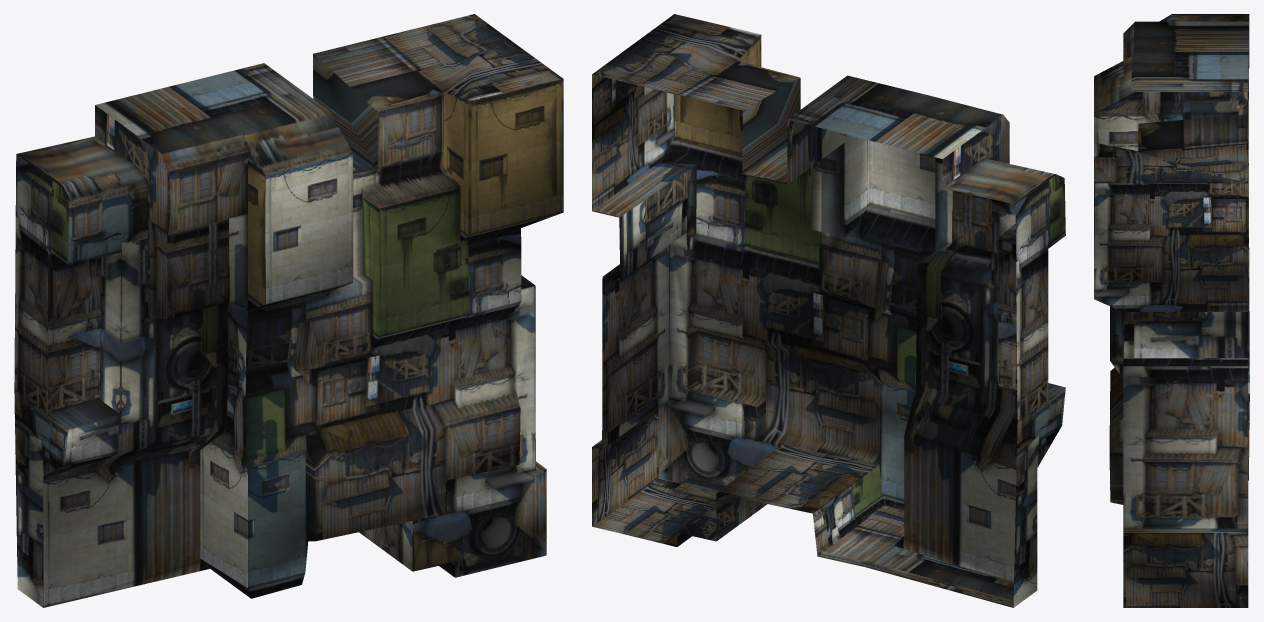
Rendered from BuildingBlock_1.FBX.
3 renders of one model, left to right at view 1: azimuth 30°, elevation 25°; view 2: azimuth 150°, elevation 25°; view 3: azimuth 270°, elevation 25°, orthographic. The views are drawn at different scales.
Visible parts, largest first — view 1: SM_Shanty_01; view 2: SM_Shanty_01; view 3: SM_Shanty_01.
Boxes of the visible parts, bbox=[...] form: SM_Shanty_01: bbox=[14, 14, 563, 607]; SM_Shanty_01: bbox=[592, 14, 1065, 607]; SM_Shanty_01: bbox=[1094, 14, 1249, 607].
Bounding box in the file's own units: 7504 × 7658 × 2535.
